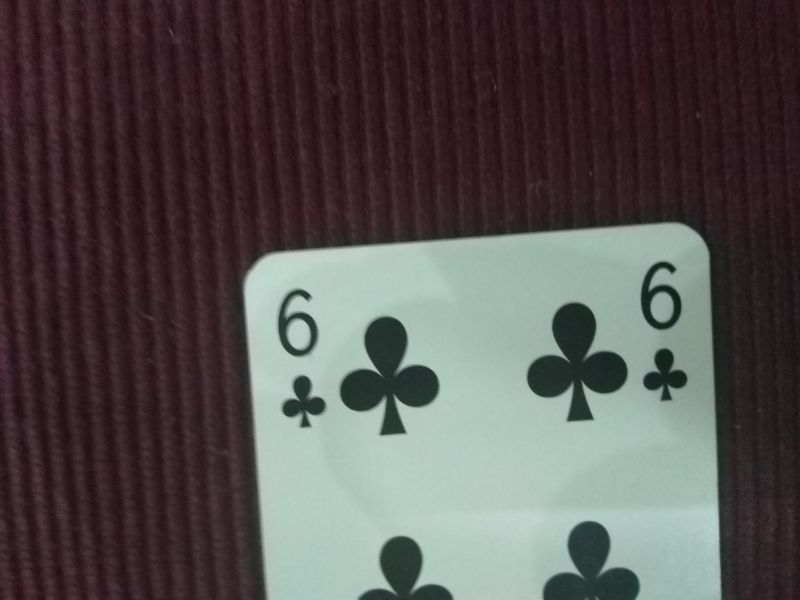6c: (630, 259, 696, 409), (271, 283, 329, 432)
